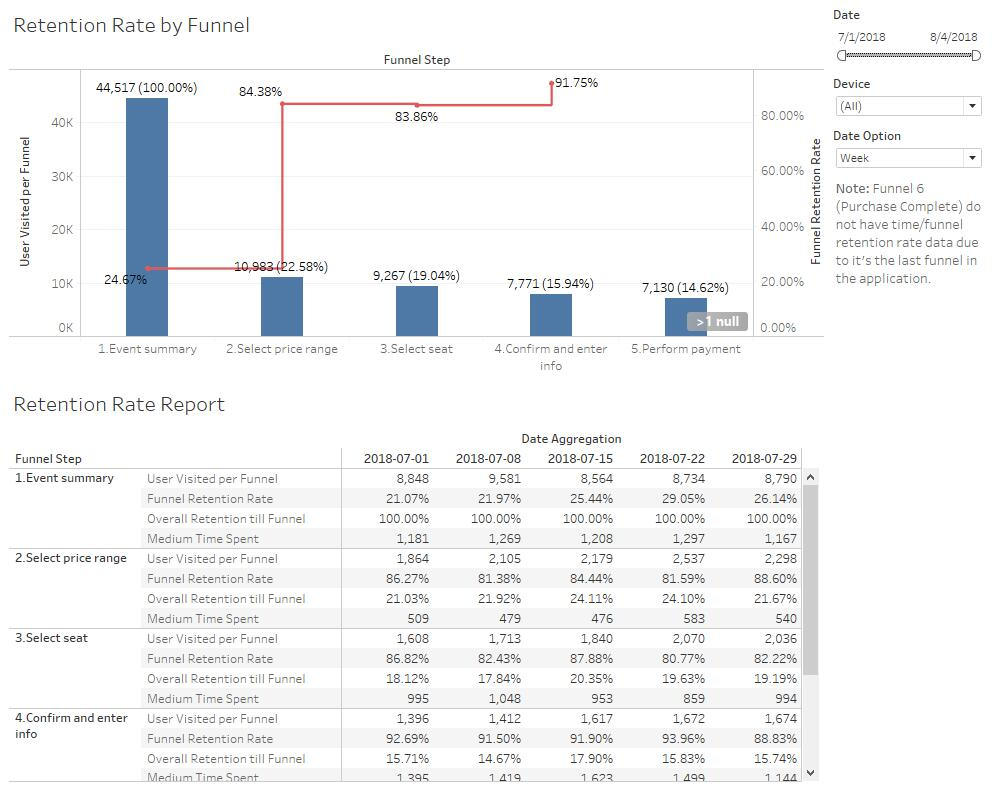

The page's visual inventory and layout, read from the dashboard file:
{"tool":"tableau","page":{"name":"Overall Funnel Retention","canvas":[1000,800],"ordinal":2},"visuals":[{"type":"worksheet","title":"Retention Rate by Funnel","mark":"Line","rows":["User Visited","Calculation3"],"cols":["Funnel"],"box":[8,8,824,379]},{"type":"filter","title":"Retention Rate by Funnel","param":"[federated.104fmxz02z8ek91d0op1l1si5i98].[none:Date:qk]","box":[832,8,160,69]},{"type":"filter","title":"Retention Rate by Funnel","param":"[federated.104fmxz02z8ek91d0op1l1si5i98].[none:OS:nk]","box":[832,77,160,52]},{"type":"parameter","param":"[Parameters].[Date Parameter]","box":[832,129,160,52]},{"type":"text","box":[832,181,160,116]},{"type":"worksheet","title":"Retention Rate Data","mark":"Automatic","rows":["Funnel"],"cols":["Calculation_1519190848479875079"],"box":[8,387,824,405]}]}

Visuals, with their boxes in screenshot pixels (x1, y1, x2, y2), scaled from the page's 1000x800 canvas onto the 997x793 screenshot:
"Retention Rate by Funnel" worksheet (Line marks): select_region(8, 8, 830, 384)
"Retention Rate by Funnel" filter: select_region(830, 8, 989, 76)
"Retention Rate by Funnel" filter: select_region(830, 76, 989, 128)
parameter: select_region(830, 128, 989, 179)
text: select_region(830, 179, 989, 294)
"Retention Rate Data" worksheet: select_region(8, 384, 830, 785)
